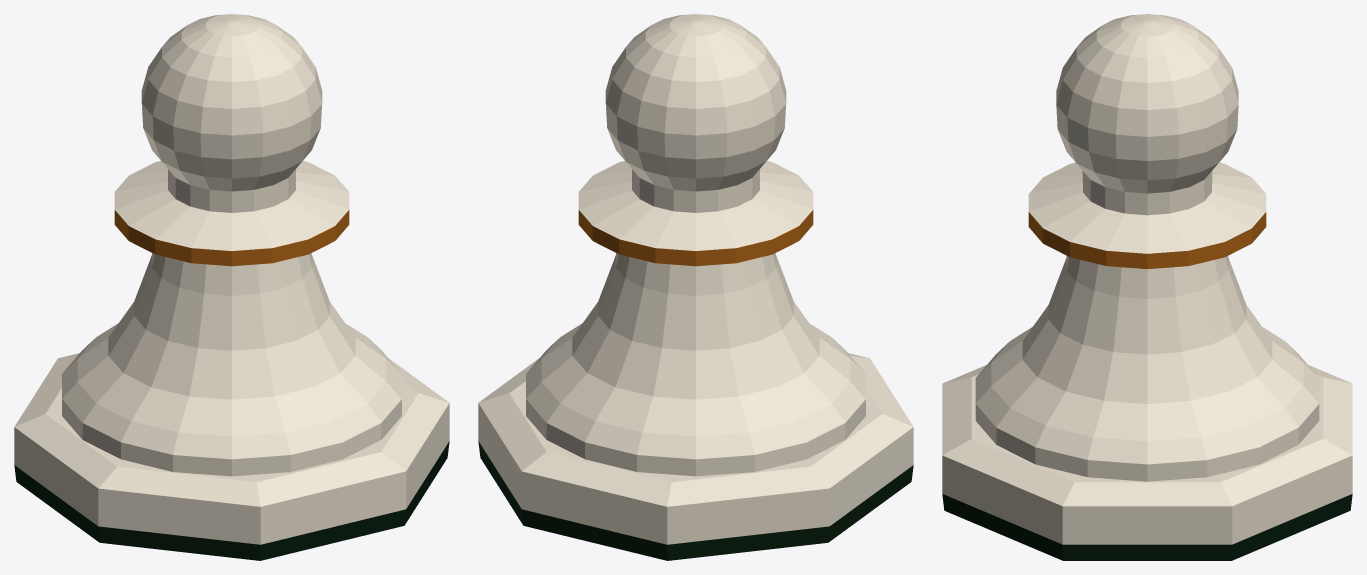
File: cozy_chess_white_pawn.obj
The picture shows the model from 3 angles, left to right: view 1: azimuth 30°, elevation 25°; view 2: azimuth 150°, elevation 25°; view 3: azimuth 270°, elevation 25°; orthographic projection.
Visible parts, largest first — view 1: Chess_White_Pawn_Mesh; view 2: Chess_White_Pawn_Mesh; view 3: Chess_White_Pawn_Mesh.
Boxes of the visible parts, box(x1,y1,x2,y2) form: Chess_White_Pawn_Mesh: box(14, 14, 449, 560); Chess_White_Pawn_Mesh: box(478, 14, 913, 560); Chess_White_Pawn_Mesh: box(942, 14, 1352, 560).
Bounding box in the file's own units: 0.0407 × 0.0497 × 0.0407.
